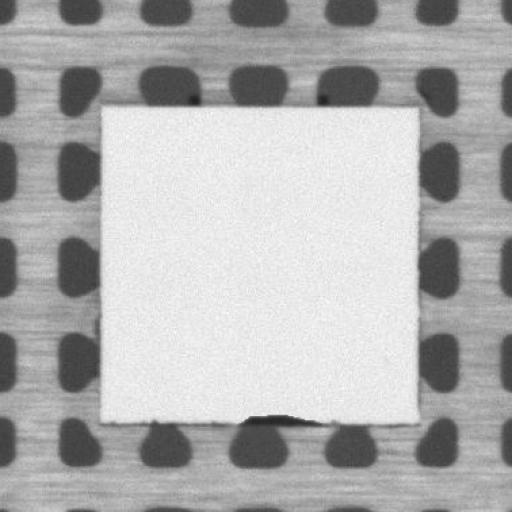DIE_BROKEN: (232, 411, 328, 427)
